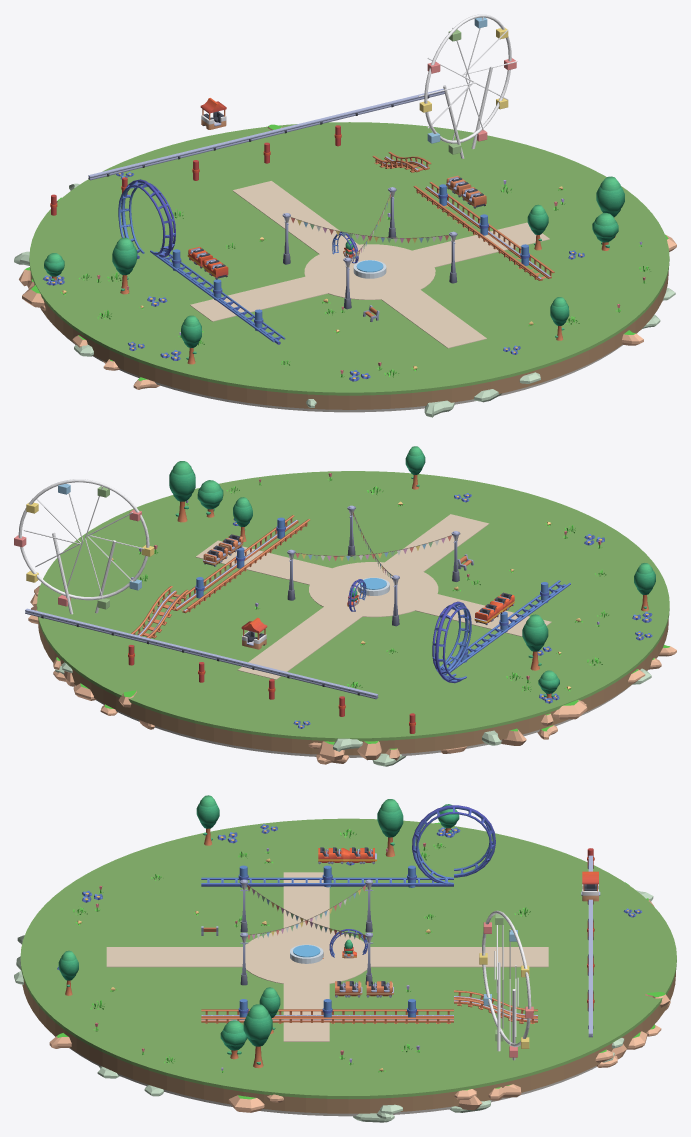
Rendered from park.glb.
3 renders of one model, top to bottom at view 1: azimuth 30°, elevation 25°; view 2: azimuth 150°, elevation 25°; view 3: azimuth 270°, elevation 25°, orthographic. The views are drawn at different scales.
Visible parts, largest first — view 1: cyl.013, cyl.014, flat-plaza, flat-path.001, flat-path, flat-path.002, flat-path.003, coaster-steel-looping.001, cyl.015, Torus, tree-large.003, tree-large.002 (+7 smaller); view 2: cyl.013, cyl.014, flat-plaza, flat-path.001, flat-path, flat-path.002, flat-path.003, coaster-steel-looping.001, Torus, tree-large.002, coaster-wood-straight-hill-complete.001, cyl.015 (+10 smaller); view 3: cyl.013, cyl.014, flat-path.001, flat-path, flat-plaza, flat-path.002, flat-path.003, coaster-steel-looping.001, tree-large.002, cyl.015, Torus, coaster-wood-straight.001 (+11 smaller).
Part boxes in pixels (left/top/right/bottom): cyl.013: left=29, top=122, right=669, bottom=395; cyl.014: left=30, top=271, right=668, bottom=409; flat-plaza: left=304, top=244, right=435, bottom=299; flat-path.001: left=232, top=181, right=373, bottom=260; flat-path: left=377, top=278, right=486, bottom=348; flat-path.002: left=190, top=270, right=353, bottom=321; flat-path.003: left=385, top=222, right=549, bottom=269; coaster-steel-looping.001: left=118, top=179, right=175, bottom=258; cyl.015: left=65, top=336, right=622, bottom=412; Torus: left=424, top=14, right=511, bottom=143; tree-large.003: left=112, top=237, right=137, bottom=294; tree-large.002: left=596, top=176, right=624, bottom=237; cyl.013: left=37, top=471, right=669, bottom=741; cyl.014: left=38, top=619, right=668, bottom=755; flat-plaza: left=309, top=562, right=438, bottom=617; flat-path.001: left=237, top=605, right=362, bottom=679; flat-path: left=370, top=514, right=489, bottom=582; flat-path.002: left=389, top=588, right=551, bottom=636; flat-path.003: left=196, top=540, right=349, bottom=585; coaster-steel-looping.001: left=432, top=601, right=471, bottom=683; Torus: left=18, top=479, right=149, bottom=600; tree-large.002: left=169, top=461, right=195, bottom=522; coaster-wood-straight-hill-complete.001: left=131, top=586, right=188, bottom=638; cyl.015: left=96, top=685, right=631, bottom=757; cyl.013: left=20, top=818, right=676, bottom=1099; cyl.014: left=22, top=972, right=675, bottom=1113; flat-path.001: left=338, top=947, right=548, bottom=967; flat-path: left=106, top=947, right=274, bottom=967; flat-plaza: left=239, top=928, right=373, bottom=985; flat-path.002: left=283, top=872, right=329, bottom=943; flat-path.003: left=283, top=970, right=329, bottom=1041; coaster-steel-looping.001: left=412, top=805, right=495, bottom=883; tree-large.002: left=243, top=1004, right=272, bottom=1068; cyl.015: left=69, top=1048, right=596, bottom=1116; Torus: left=482, top=910, right=531, bottom=1047; coaster-wood-straight.001: left=369, top=1009, right=453, bottom=1023.
Bounding box in the file's own units: 69.63 × 25.35 × 68.67.
Materials: 62 (16 with a texture image).
